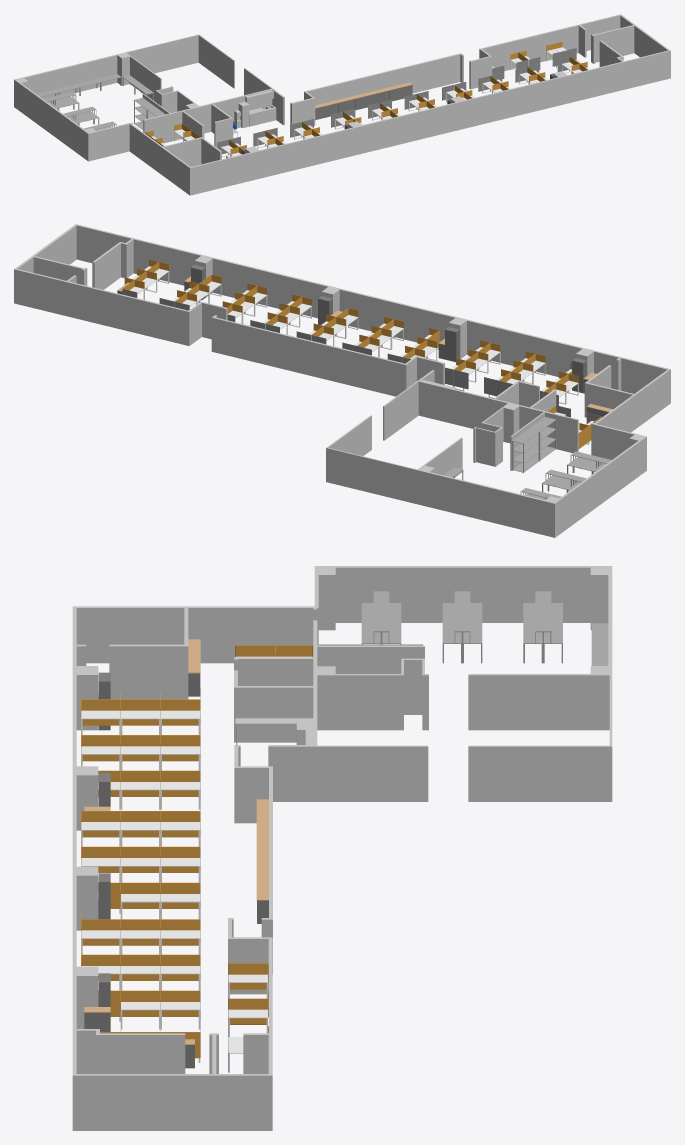
File: office.dae
3 views of the same model, one above another, from view 1: azimuth 30°, elevation 25°; view 2: azimuth 150°, elevation 25°; view 3: azimuth 270°, elevation 25° (orthographic). The views are drawn at different scales.
Visible parts, largest first — view 1: Wall, Plane.010, Plane.016, Cube, Plane.009, Cube.015, Plane, Cube.002, Plane.006, Cube.001, Plane.014, Plane.017 (+5 smaller); view 2: Wall, Plane.010, Plane.016, Plane, Cube.002, Plane.009, Cube.001, Cube, Plane.017, Cube.022, Cube.017, Plane.013 (+2 smaller); view 3: Wall, Cube.001, Plane.009, Plane.016, Plane.010, Plane, Cube.017, Plane.012, Plane.011, Cube.022, Plane.013, Cube.015 (+3 smaller).
Boxes of the visible parts, x1,y1,x2,y2 form: Wall: [129, 14, 670, 195]; Plane.010: [14, 52, 130, 161]; Plane.016: [126, 34, 272, 95]; Cube: [217, 56, 569, 154]; Plane.009: [126, 53, 198, 114]; Cube.015: [315, 82, 412, 119]; Plane: [221, 62, 590, 157]; Cube.002: [230, 62, 587, 154]; Plane.006: [245, 90, 276, 126]; Cube.001: [229, 57, 587, 154]; Plane.014: [36, 74, 121, 97]; Plane.017: [134, 98, 165, 129]; Wall: [14, 224, 670, 455]; Plane.010: [416, 424, 646, 537]; Plane.016: [326, 381, 418, 503]; Plane: [129, 266, 578, 404]; Cube.002: [124, 259, 578, 391]; Plane.009: [418, 403, 544, 477]; Cube.001: [122, 262, 571, 394]; Cube: [122, 289, 558, 405]; Plane.017: [512, 417, 556, 472]; Cube.022: [191, 265, 586, 393]; Cube.017: [194, 255, 593, 375]; Plane.013: [567, 451, 611, 474]; Wall: [72, 606, 317, 1130]; Cube.001: [81, 699, 200, 1058]; Plane.009: [316, 646, 608, 730]; Plane.016: [317, 675, 612, 801]; Plane.010: [314, 566, 612, 730]; Plane: [81, 710, 200, 1062]; Cube.017: [76, 666, 98, 1028]; Plane.012: [442, 591, 482, 663]; Plane.011: [523, 591, 562, 663]; Cube.022: [98, 672, 110, 1006]; Plane.013: [361, 591, 401, 644]; Cube.015: [256, 799, 268, 923].
Size of the model in its own units: 45.58 by 20.39 by 2.3.
